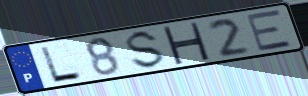2: (206, 17, 253, 59)
8: (85, 36, 122, 78)
E: (244, 8, 296, 53)
H: (160, 21, 212, 65)
L: (38, 45, 86, 84)
S: (125, 29, 168, 71)
